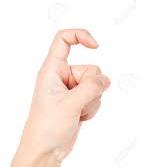anticlockwise: (21, 26, 113, 156)
